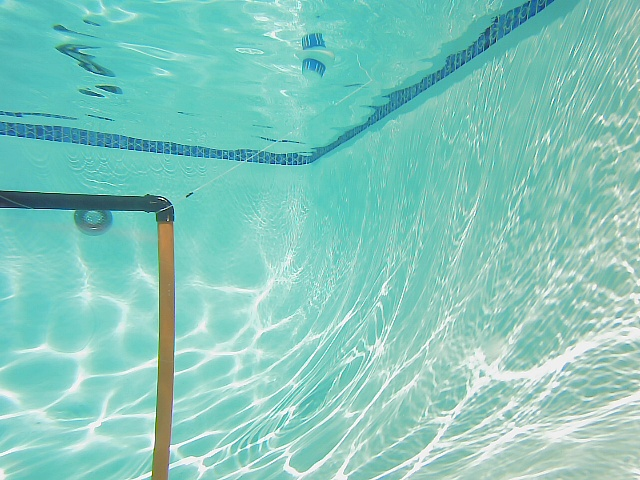Gate: (1, 185, 185, 480)
